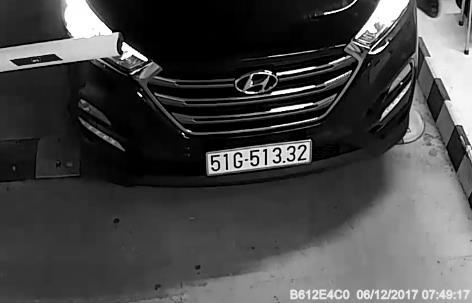License-plate: (199, 139, 319, 175)
